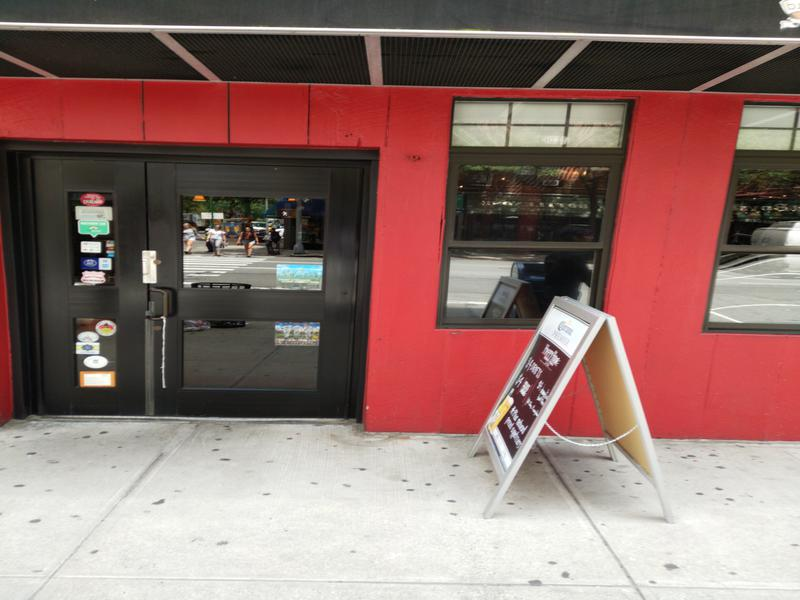door: (138, 146, 371, 426)
